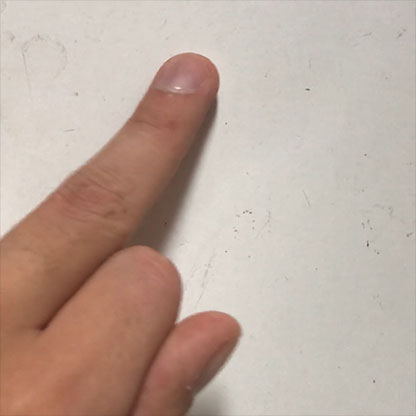fingertip: (149, 49, 232, 116)
